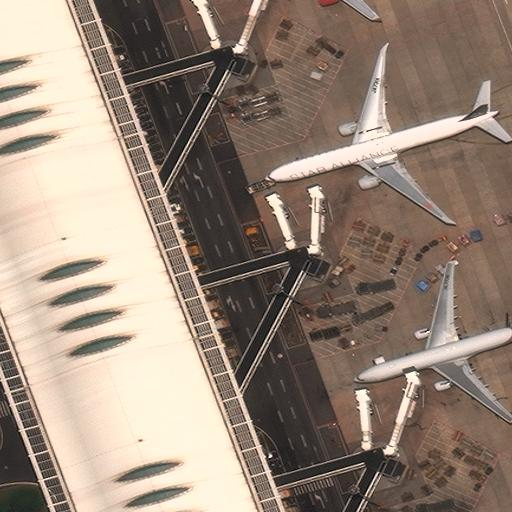Large Civil Transport: (264, 46, 499, 222), (352, 260, 512, 426), (279, 0, 380, 20)
